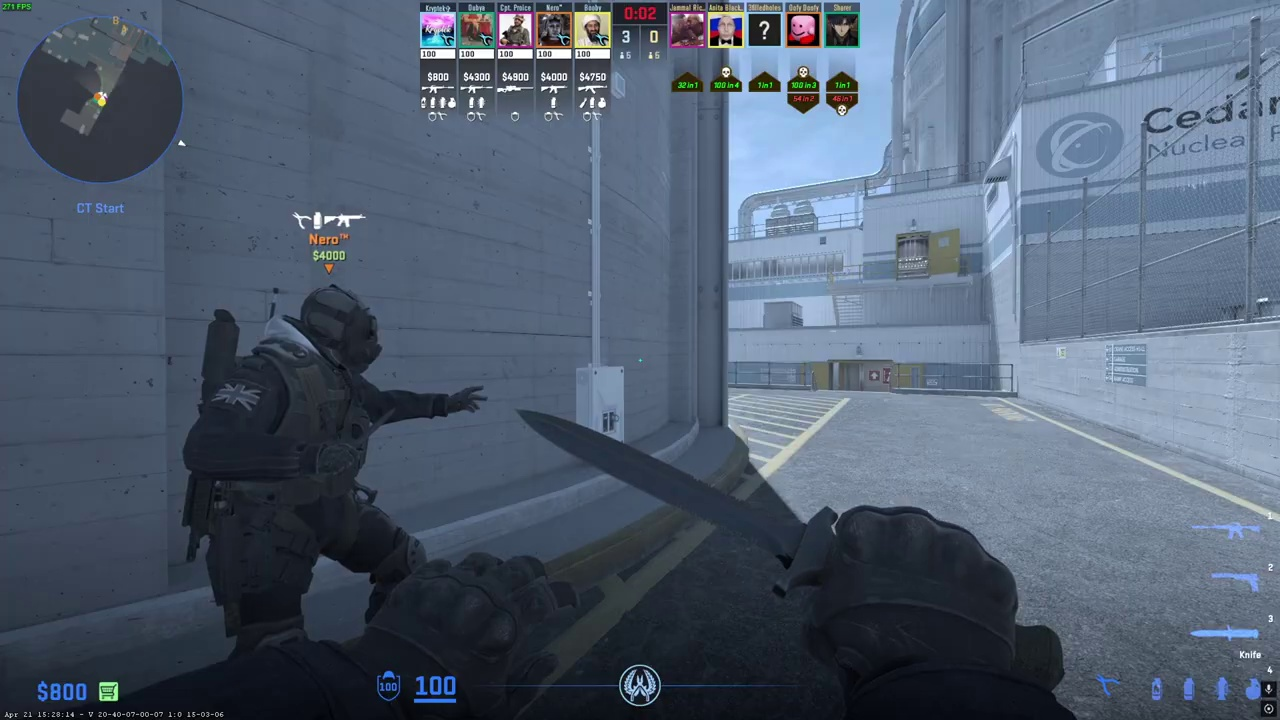CT: (202, 284, 418, 670)
